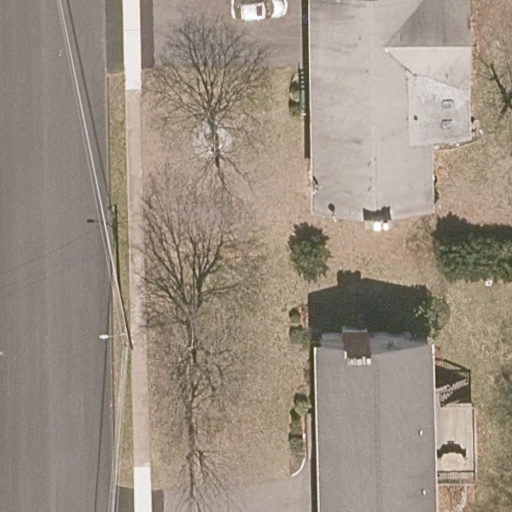DT: (99, 324, 135, 350)
